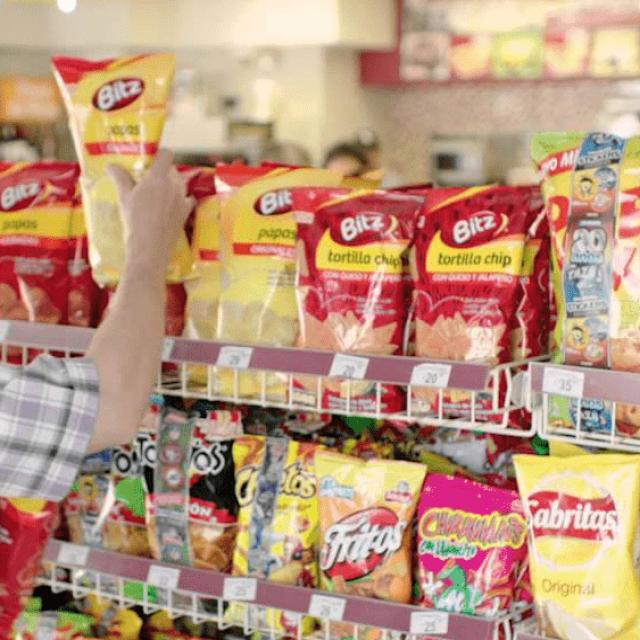churrumais: (423, 478, 513, 614)
sabritasOriginal: (526, 459, 638, 640)
